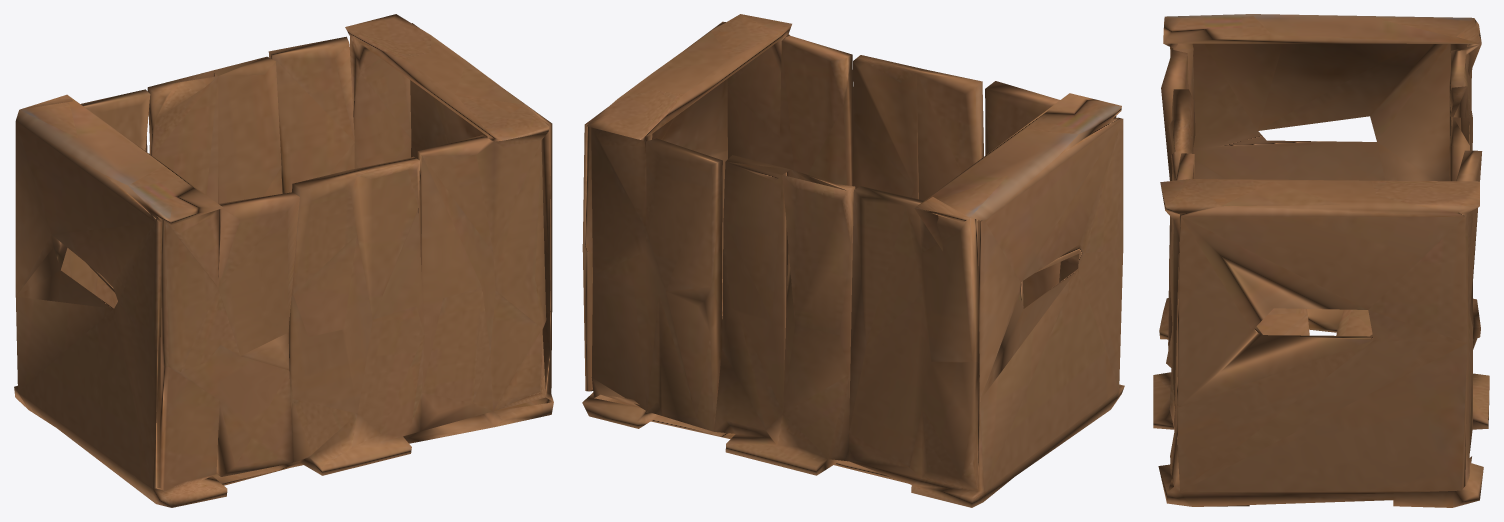
File: crate.glb
3 renders of one model, left to right at view 1: azimuth 30°, elevation 25°; view 2: azimuth 150°, elevation 25°; view 3: azimuth 270°, elevation 25°, orthographic. The views are drawn at different scales.
Parts seen in each view (by area): view 1: crate; view 2: crate; view 3: crate.
Part boxes in pixels (<box>): crate: <box>14,14,553,507</box>; crate: <box>582,14,1124,507</box>; crate: <box>1153,14,1489,507</box>.
Size of the model in its own units: 0.7 by 0.5 by 0.5.
1 material, 1 textured.
